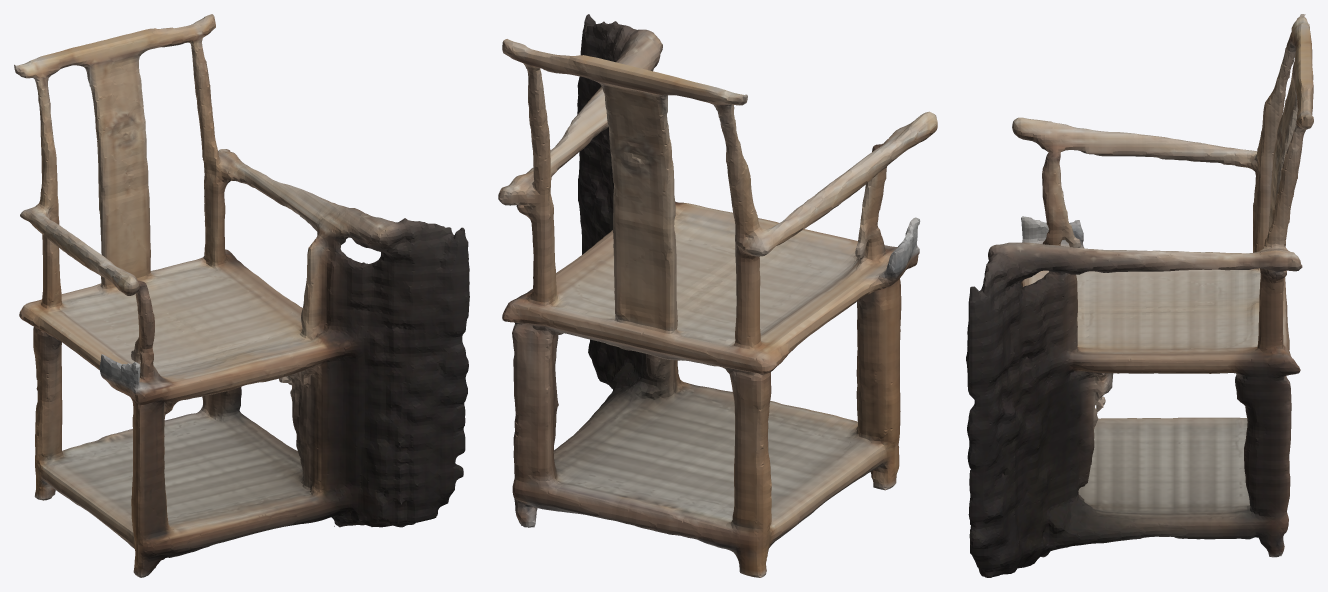
File: instantmesh-current-smoke.glb
The picture shows the model from 3 angles, left to right: view 1: azimuth 30°, elevation 25°; view 2: azimuth 150°, elevation 25°; view 3: azimuth 270°, elevation 25°; orthographic projection. The views are drawn at different scales.
Visible parts, largest first — view 1: geometry_0; view 2: geometry_0; view 3: geometry_0.
Boxes of the visible parts, x1,y1,x2,y2 form: geometry_0: (14,14,469,577); geometry_0: (498,14,937,577); geometry_0: (966,14,1313,577).
Bounding box in the file's own units: 1.59 × 1.98 × 1.41.
